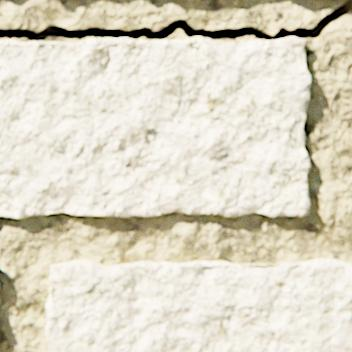brick: (0, 37, 310, 217), (47, 257, 351, 351), (0, 273, 3, 293), (349, 39, 351, 58)
crack: (0, 0, 351, 41)
